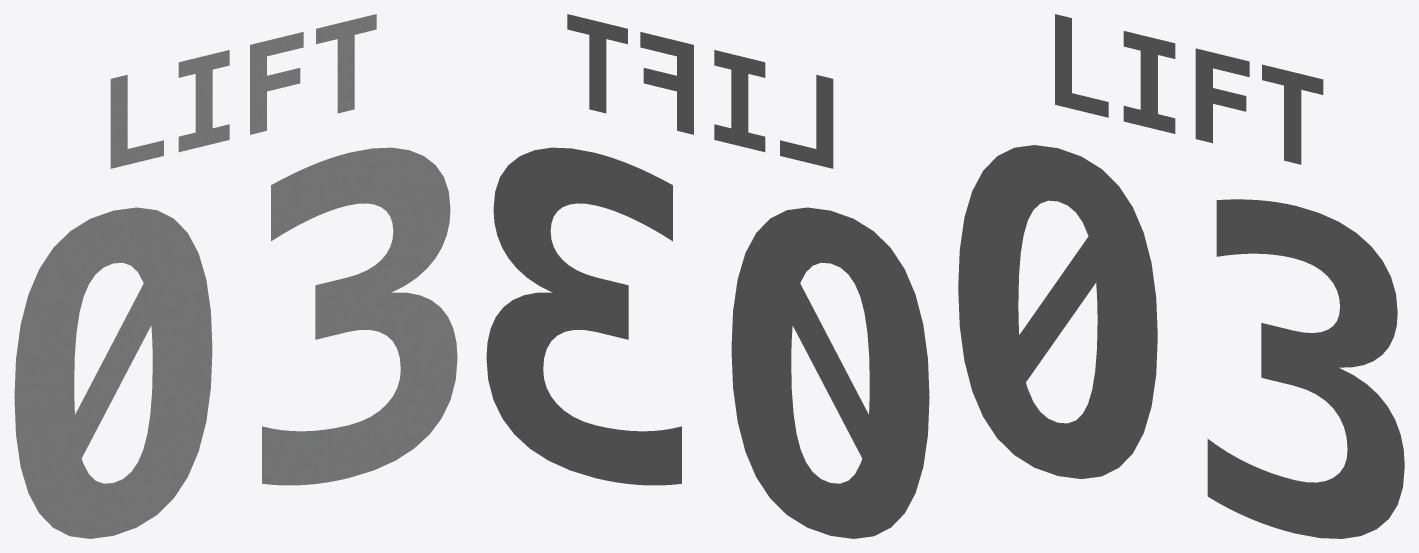
File: Lift_03_Label_01 2.fbx
3 renders of one model, left to right at view 1: azimuth 30°, elevation 25°; view 2: azimuth 150°, elevation 25°; view 3: azimuth 330°, elevation 25°, orthographic.
Parts seen in each view (by area): view 1: Lift_03_Label_01; view 2: Lift_03_Label_01; view 3: Lift_03_Label_01.
Part boxes in pixels (x1,y1,x2,y2): Lift_03_Label_01: [14, 14, 457, 538]; Lift_03_Label_01: [486, 14, 929, 538]; Lift_03_Label_01: [958, 14, 1404, 538].
Bounding box in the file's own units: 619 × 611 × 0.000122.
